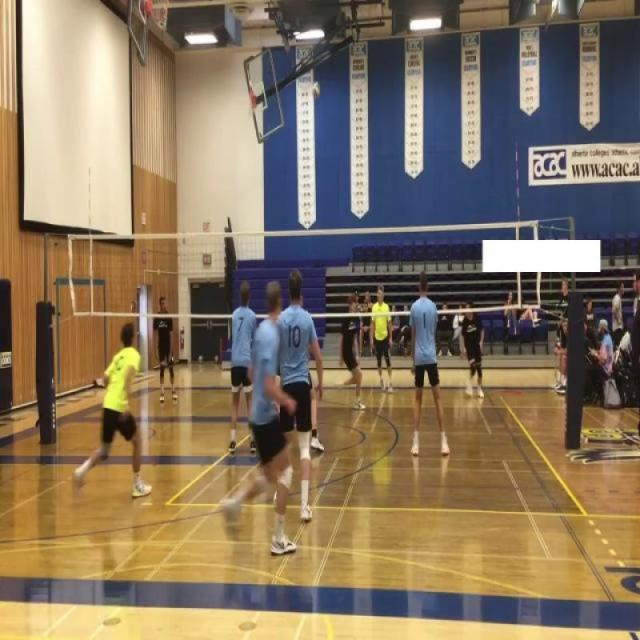volleyball: (312, 81, 321, 100)
